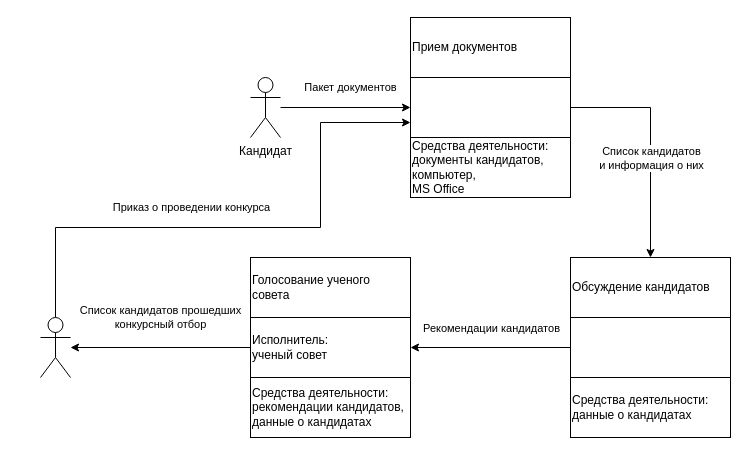
Some shapes in this 748 by 455 pixel diagram are drawn without their labels. Here are the shapes that lost their labels. From the top down, the centre of each, then its label:
At point 490,107: "Исполнитель: отдел кадров".
At point 55,347: "Отдел кадров".
At point 650,347: "Исполнитель: коллегиальные органы".
